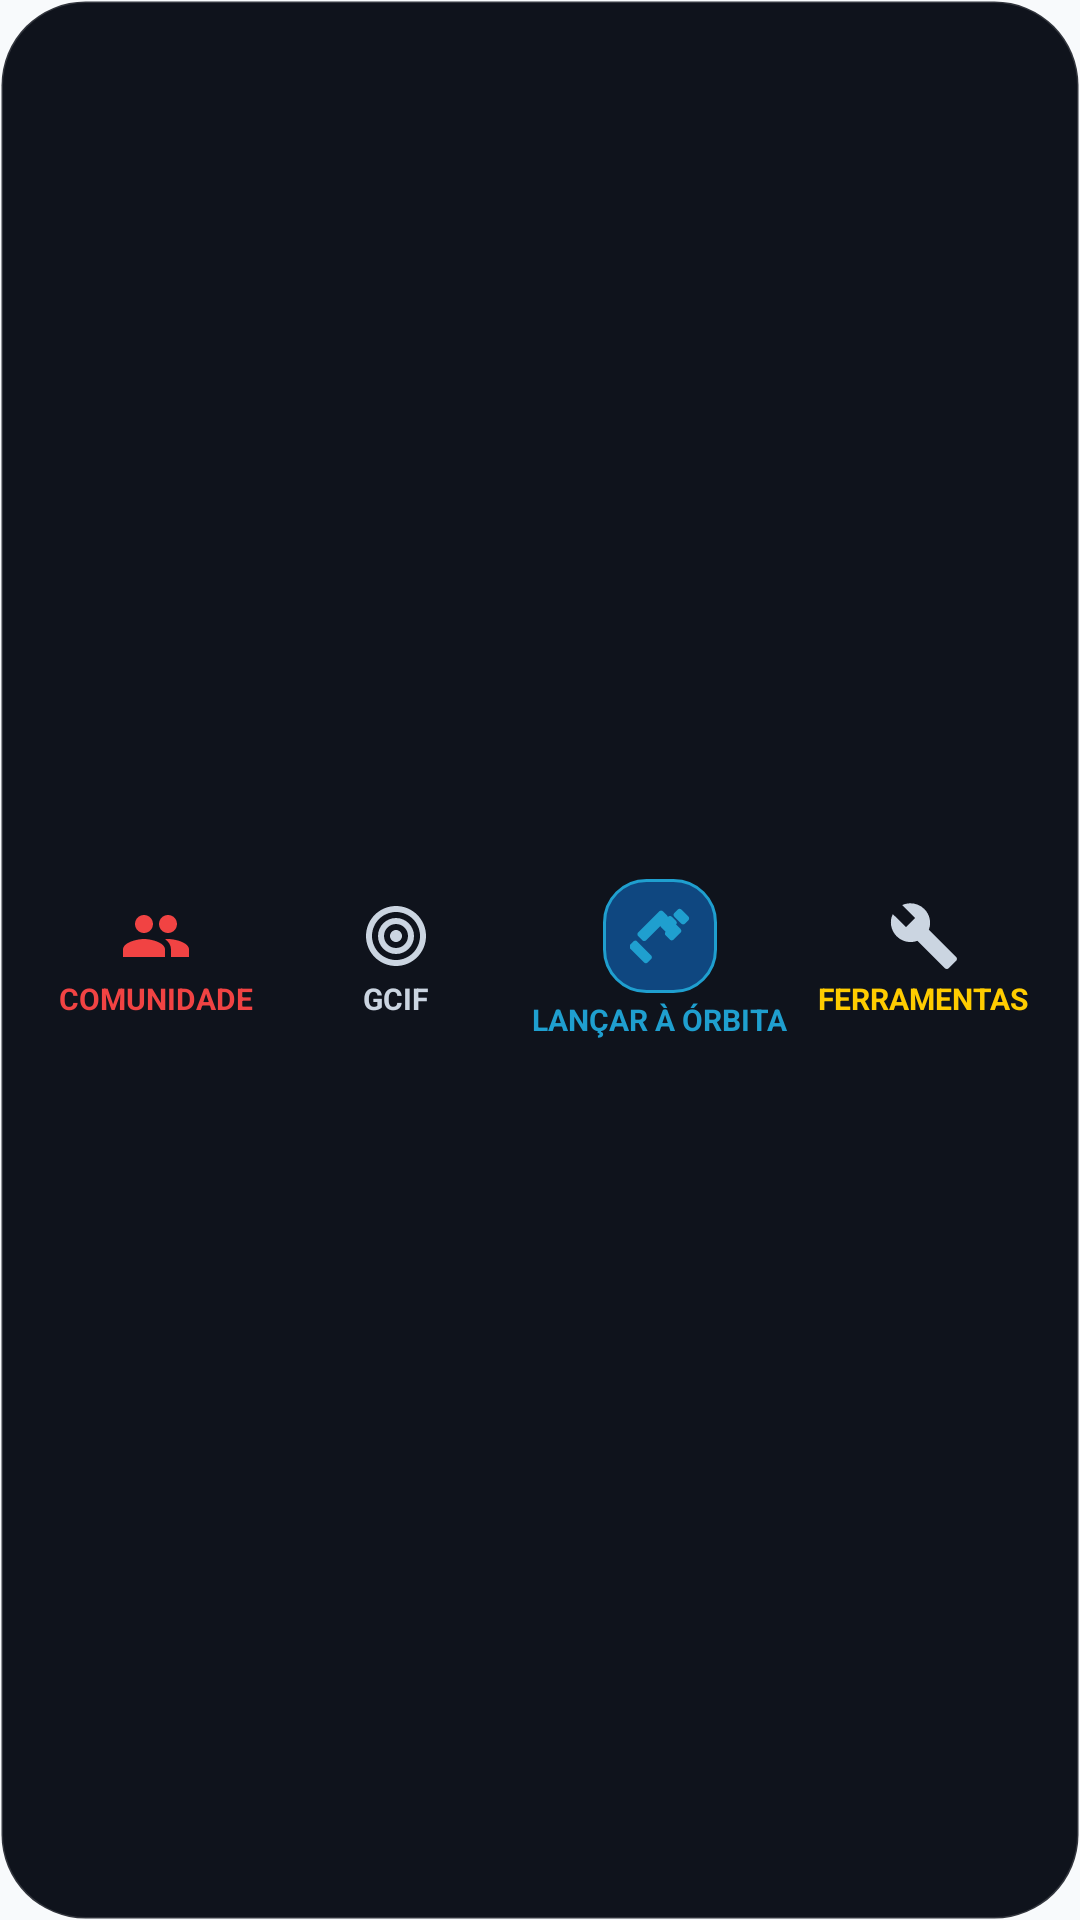

Where icons sit on this 1080 × 1920 app screen, as (x1, y1, x2, y2):
widget group: (123, 915, 189, 957)
widget target: (366, 906, 426, 966)
